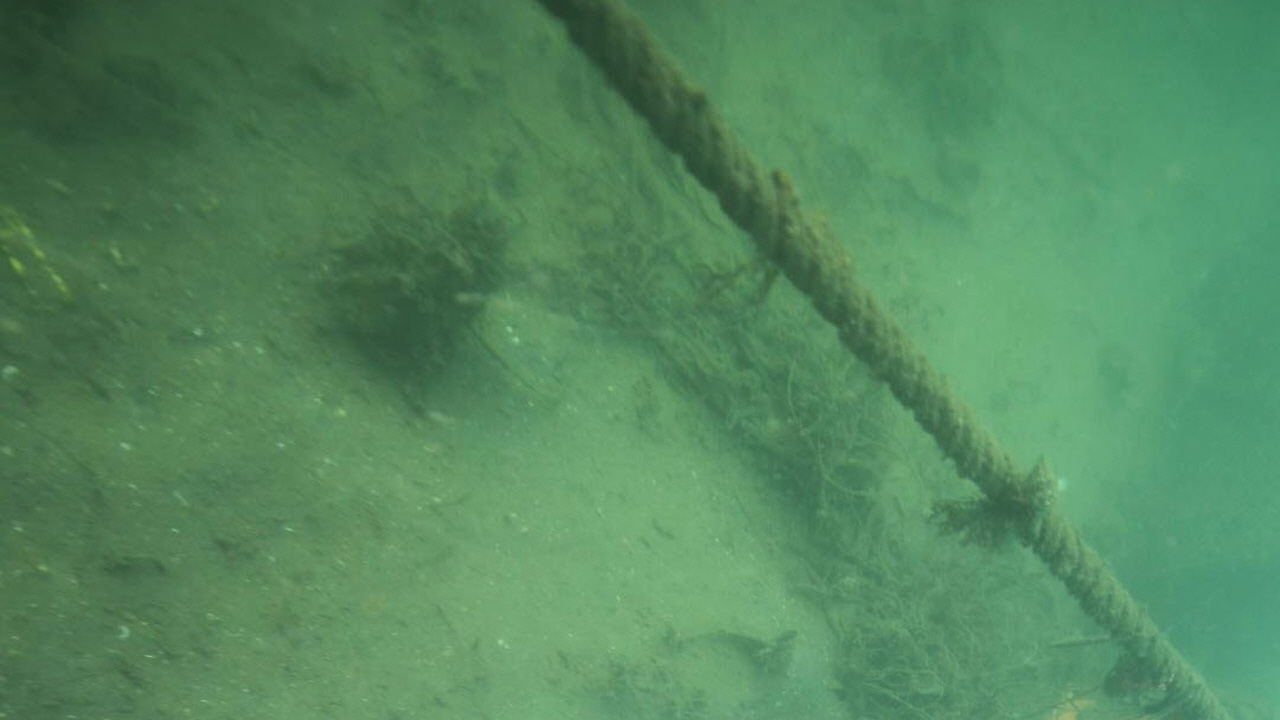rope: (532, 0, 1232, 716)
